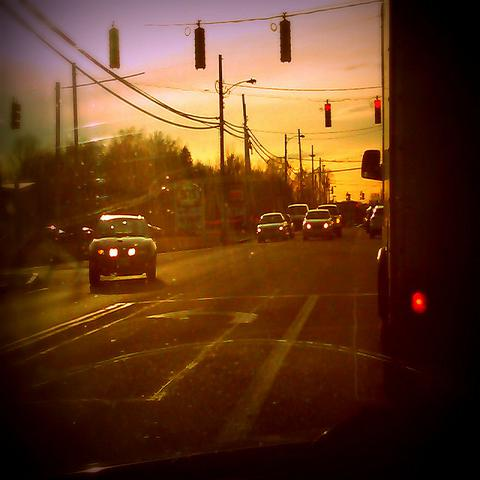car: (88, 214, 157, 284), (20, 224, 95, 266), (302, 209, 334, 241), (256, 212, 288, 242), (316, 206, 343, 229), (288, 203, 309, 229), (370, 207, 382, 238), (282, 214, 294, 238), (363, 208, 374, 234)
truck: (357, 0, 479, 398)
